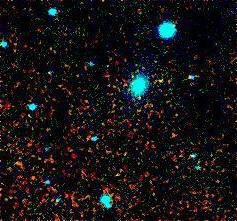star: (129, 82, 159, 112)
